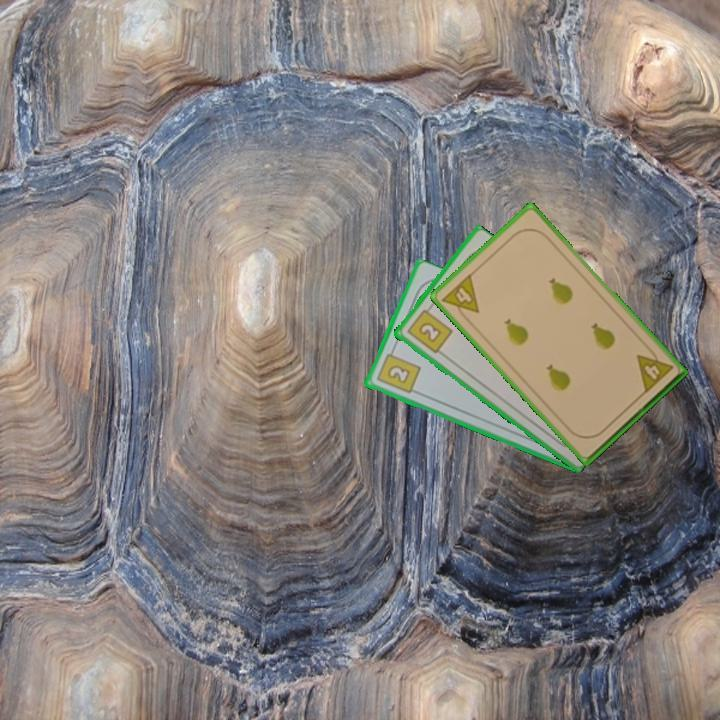2b: (403, 302, 455, 356), (373, 345, 423, 396)
4p: (438, 270, 482, 325), (633, 343, 676, 396)
